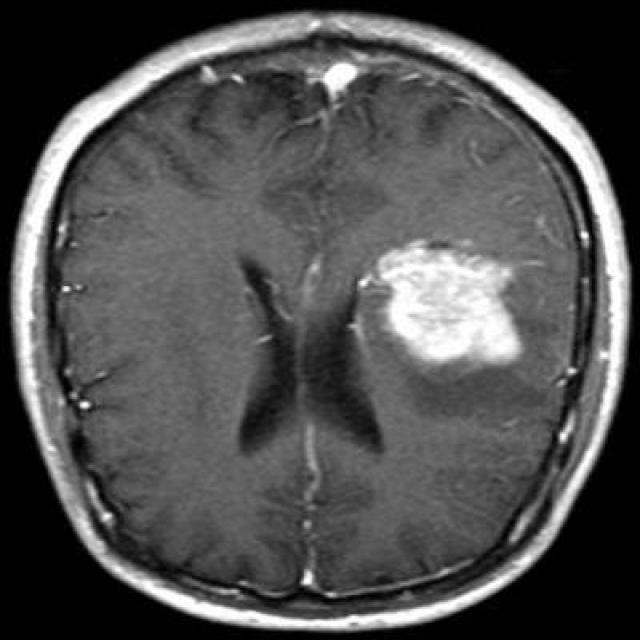brain tumor: (379, 246, 523, 359)
